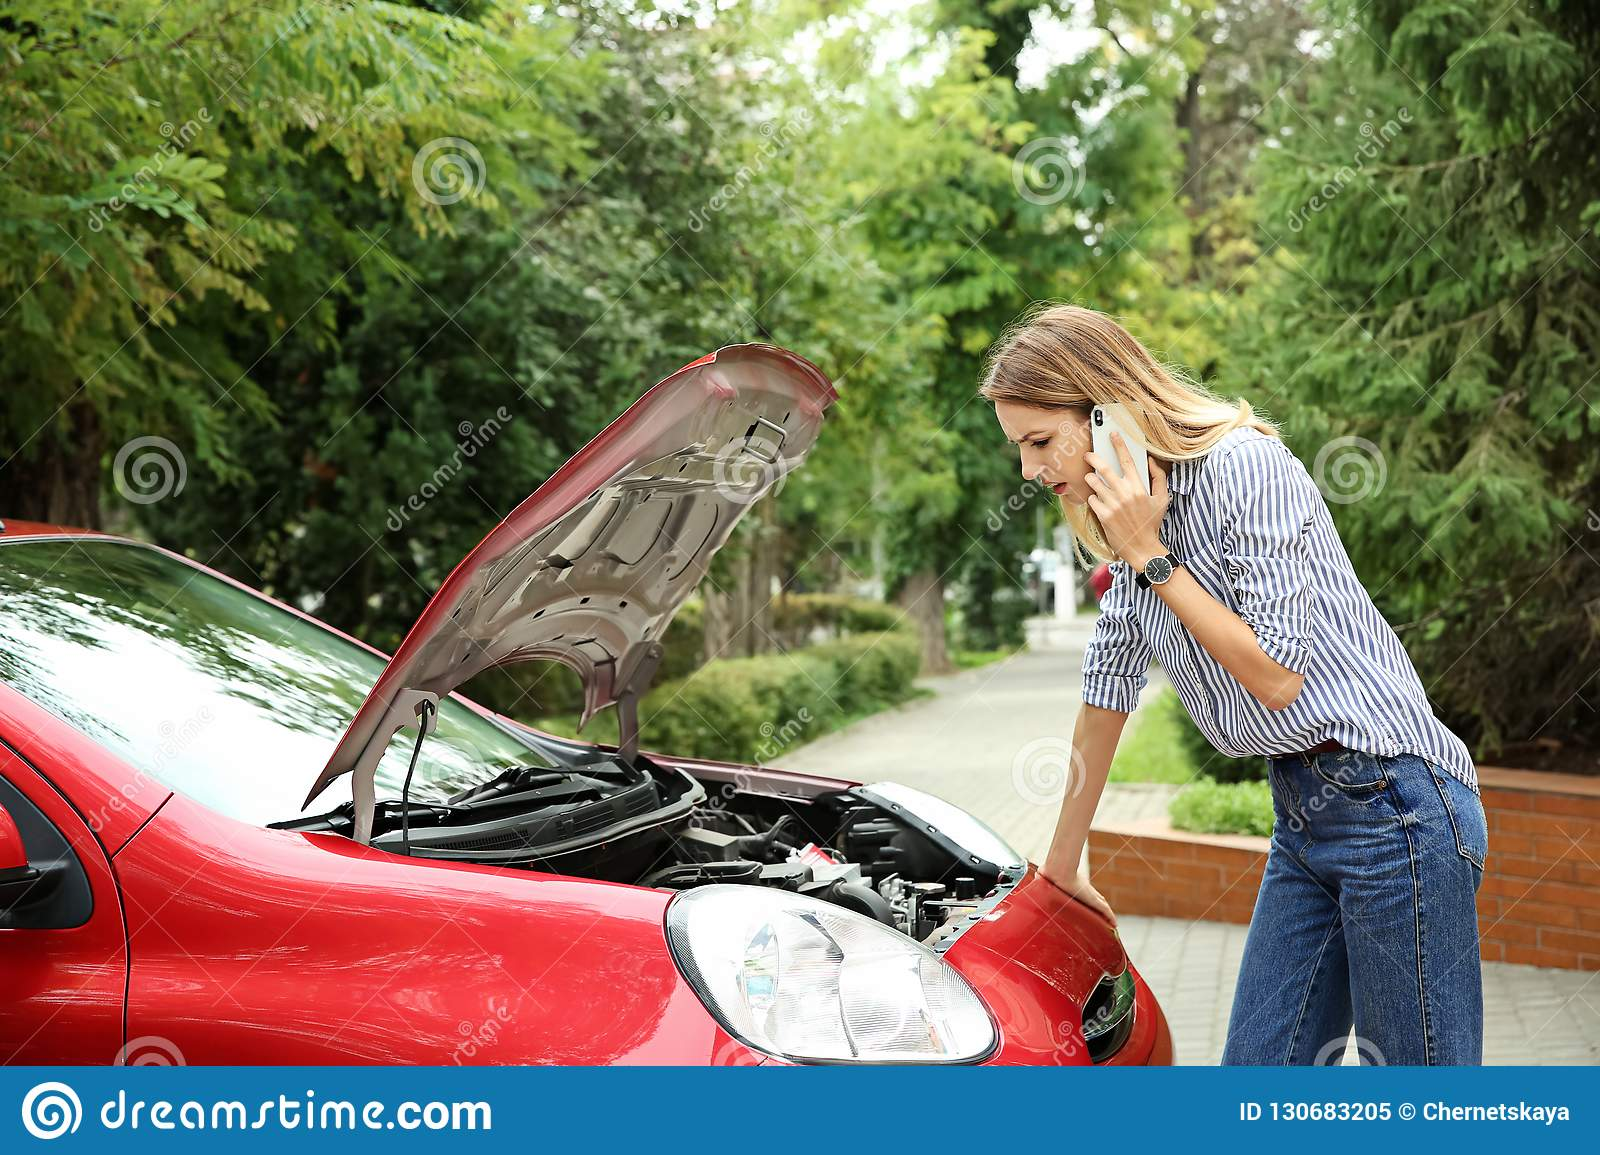phone: (1087, 402, 1152, 503)
talk: (999, 395, 1168, 563)
